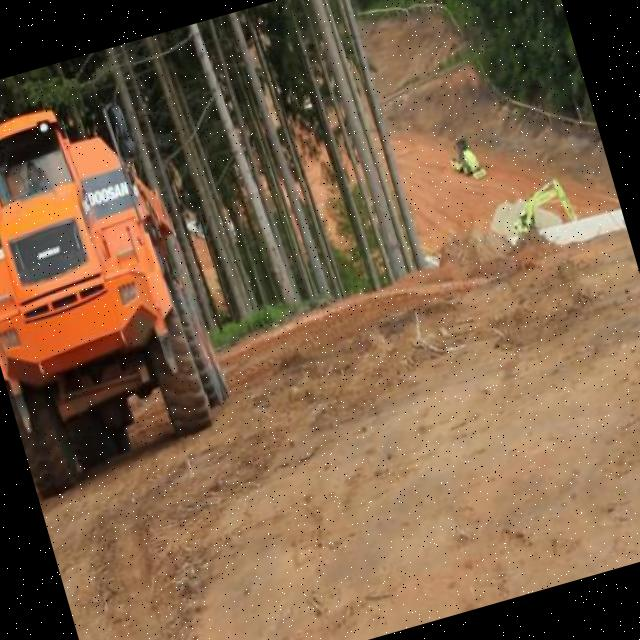Dump Truck: (0, 77, 243, 497)
Excavator: (502, 170, 582, 240)
